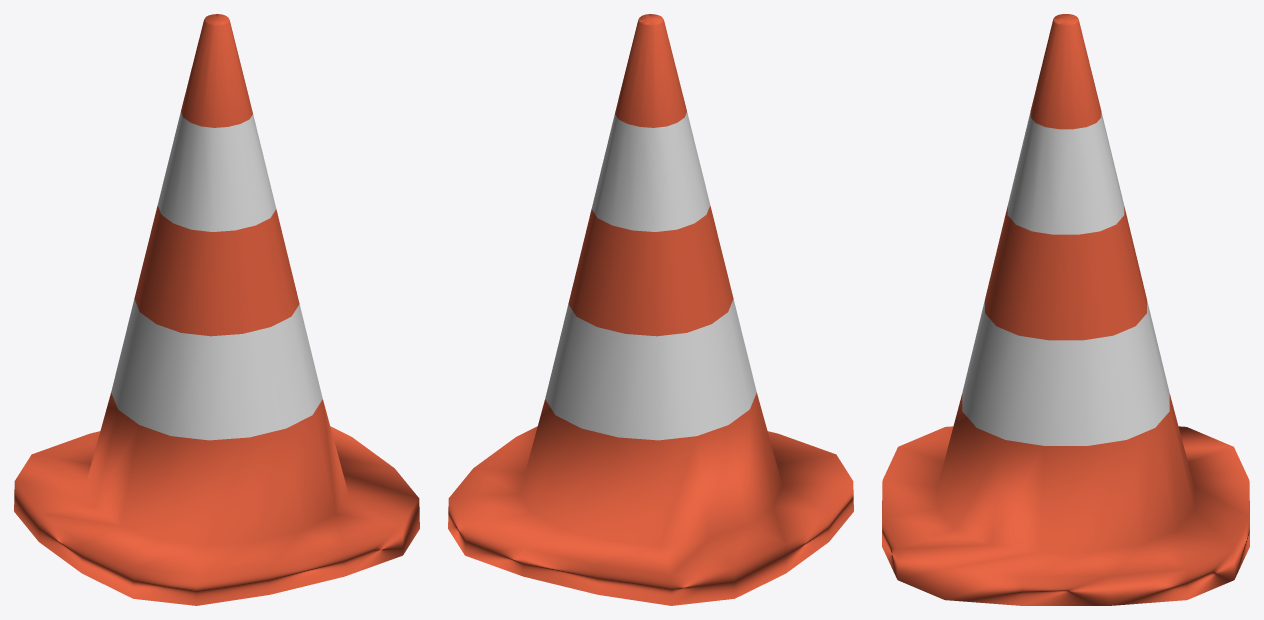
File: Cono_stradale.fbx
The picture shows the model from 3 angles, left to right: view 1: azimuth 30°, elevation 25°; view 2: azimuth 150°, elevation 25°; view 3: azimuth 270°, elevation 25°; orthographic projection.
Parts seen in each view (by area): view 1: Plane; view 2: Plane; view 3: Plane.
Boxes of the visible parts, x1,y1,x2,y2 form: Plane: (14,14,419,605); Plane: (448,14,853,605); Plane: (882,14,1249,605).
Size of the model in its own units: 48.64 by 74.36 by 48.64.
